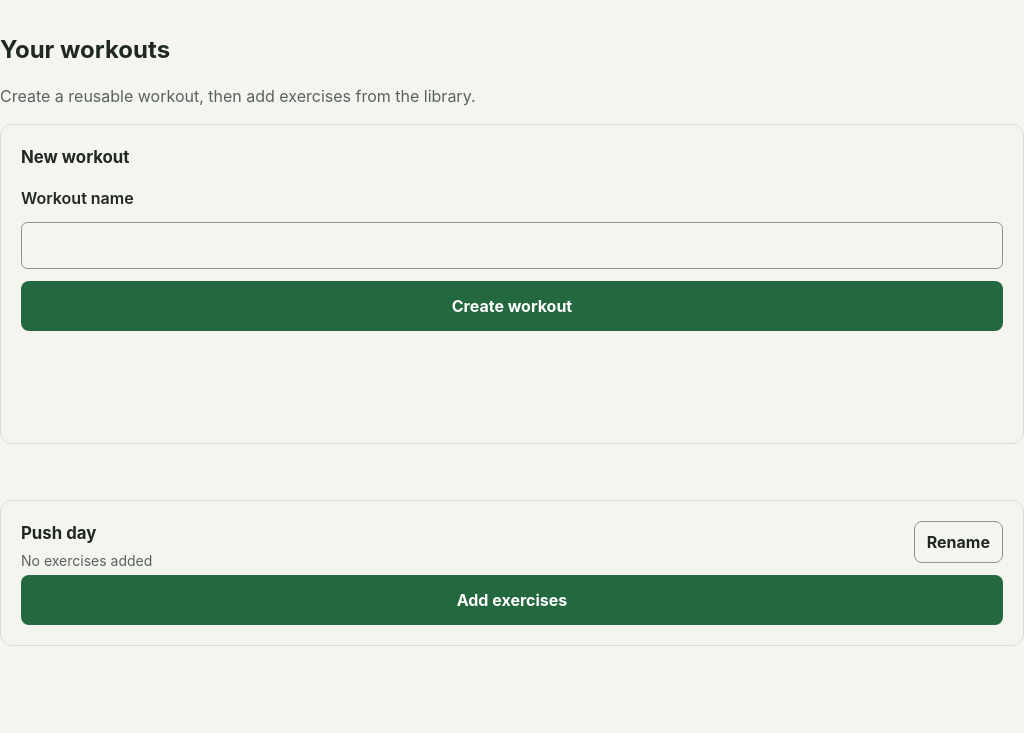
Test: saved workouts › filters exercises by muscle details and shows weighted guidance
The image size is (1024, 733).
Click the button "Add exercises": (512, 600) [21, 575, 1003, 625]
(page scrolled)
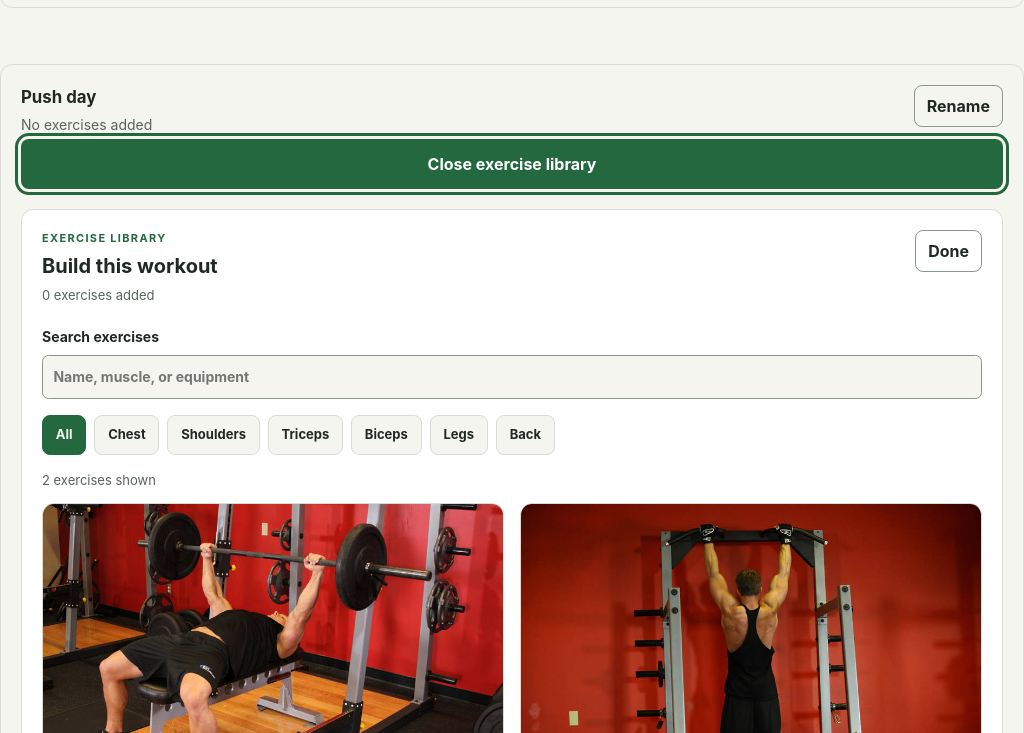
Expected: the heading "Build this workout" is shown, [42, 251, 218, 281]
In the search field labelled "Search exercises": (512, 377) [42, 355, 982, 399], type "lats"
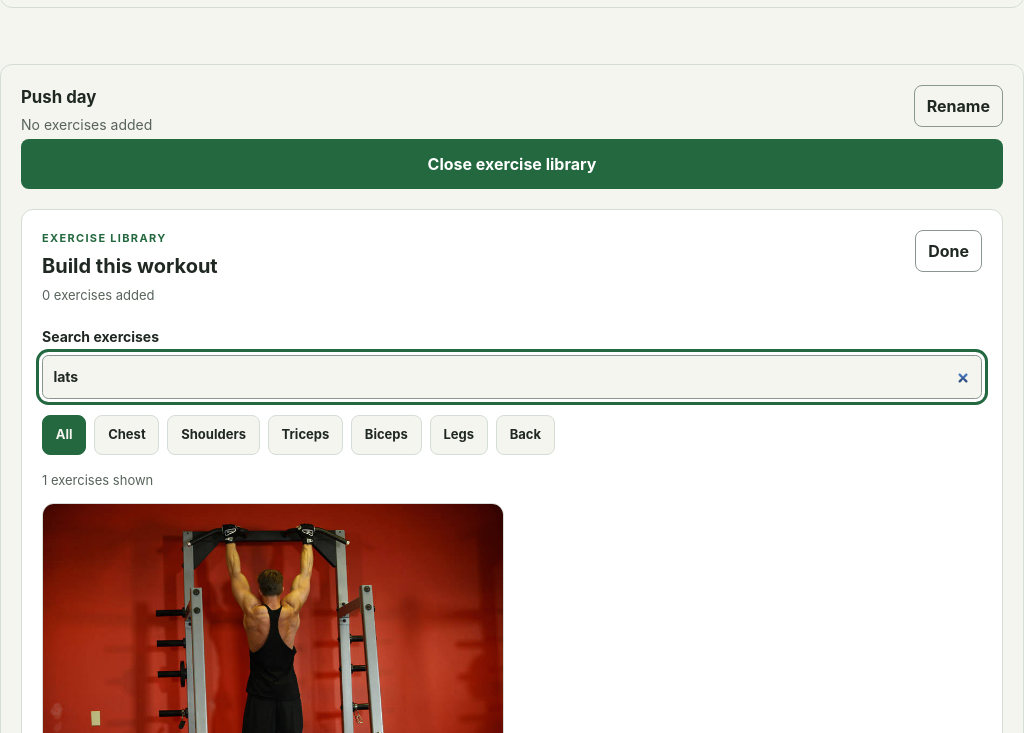
Clear the search field labelled "Search exercises": (512, 377) [42, 355, 982, 399]
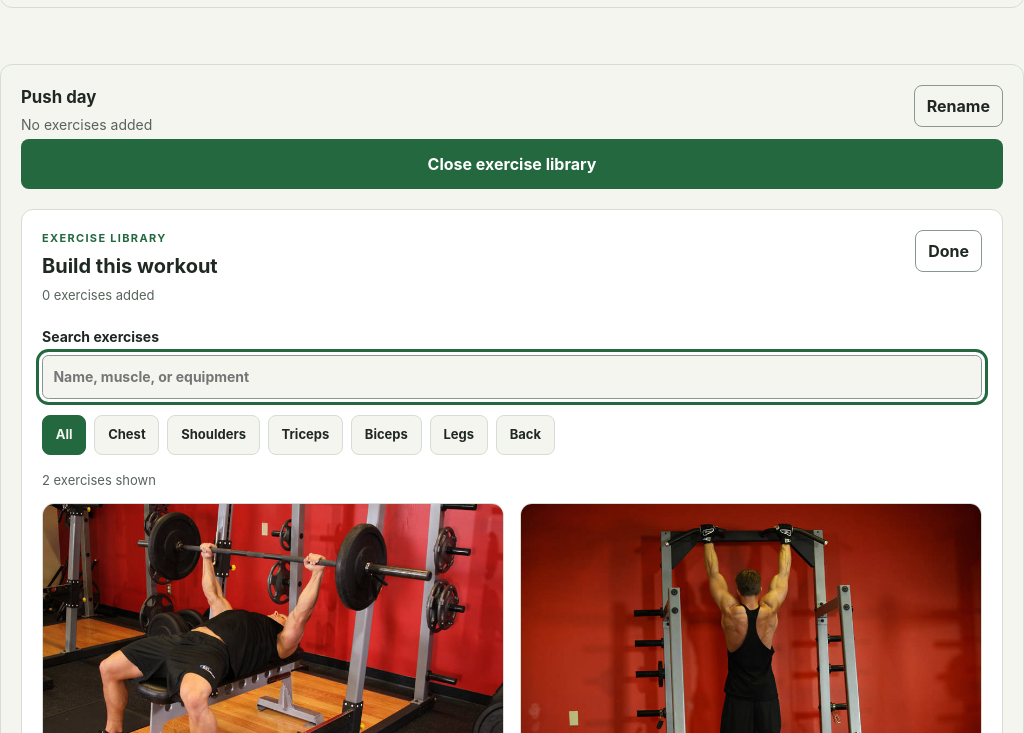
Click the button "Chest": (127, 435) [94, 415, 160, 455]
(page scrolled)
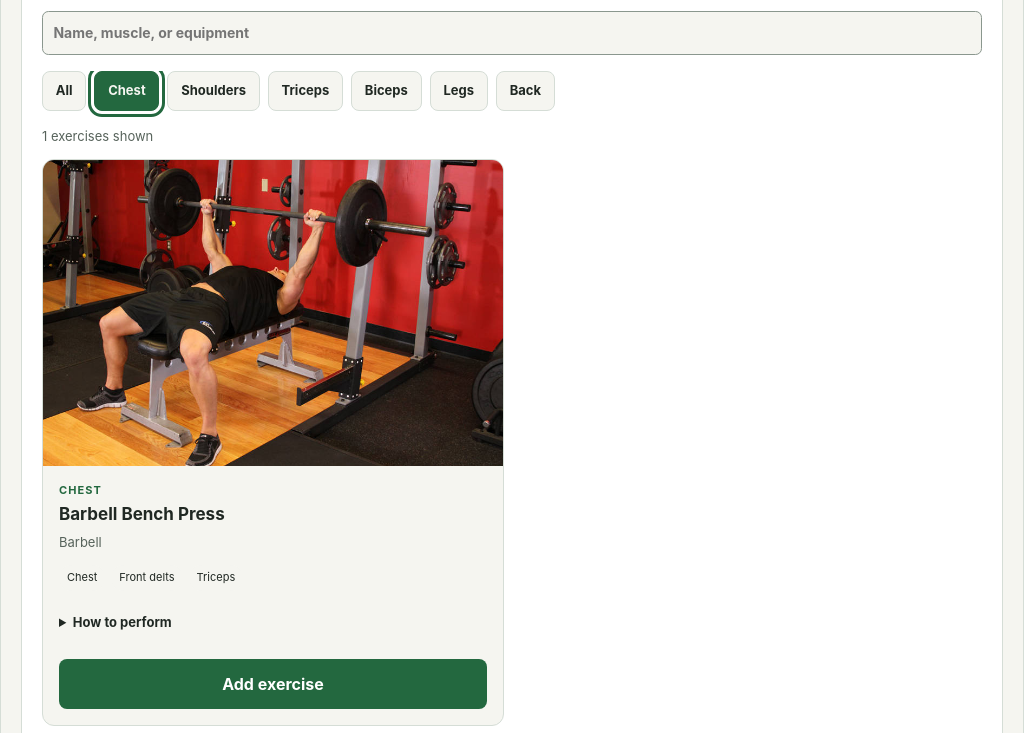
Expected: the heading "Barbell Bench Press" is shown, [59, 503, 225, 525]
Click the heading "How to perform": (122, 622) [73, 614, 172, 630]
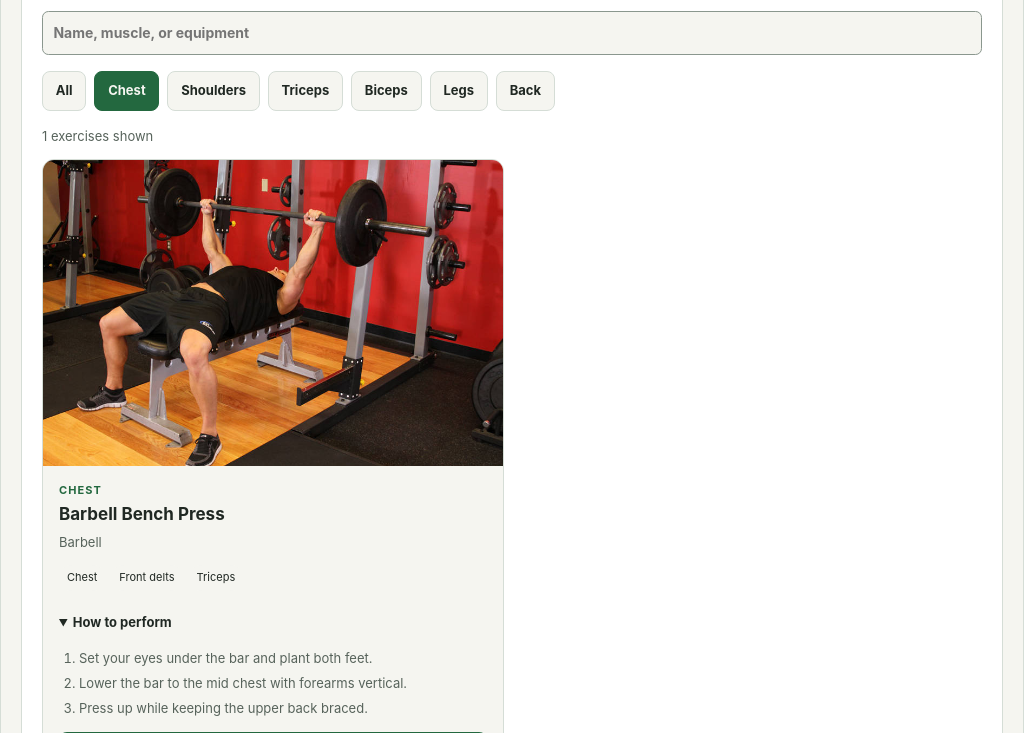
Expected: the list item "Lower the bar to the mid chest with forearms vertical." is shown, [79, 675, 407, 691]
